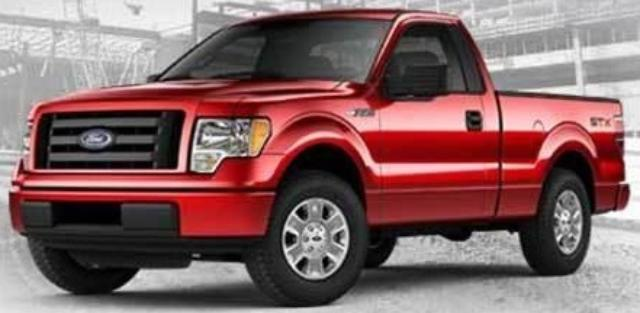pickup-truck: (7, 8, 631, 307)
